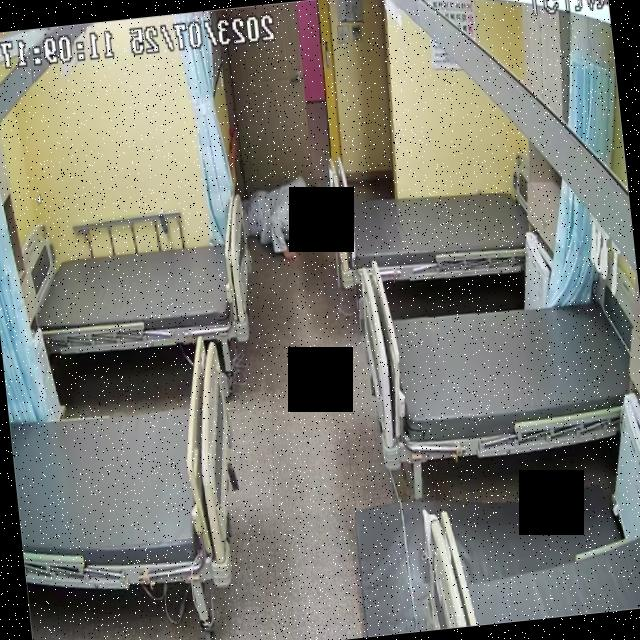bed: (2, 334, 246, 602), (362, 286, 640, 465), (14, 220, 260, 363), (332, 171, 530, 288)
fall: (241, 170, 329, 263)
patient: (238, 170, 332, 260)
